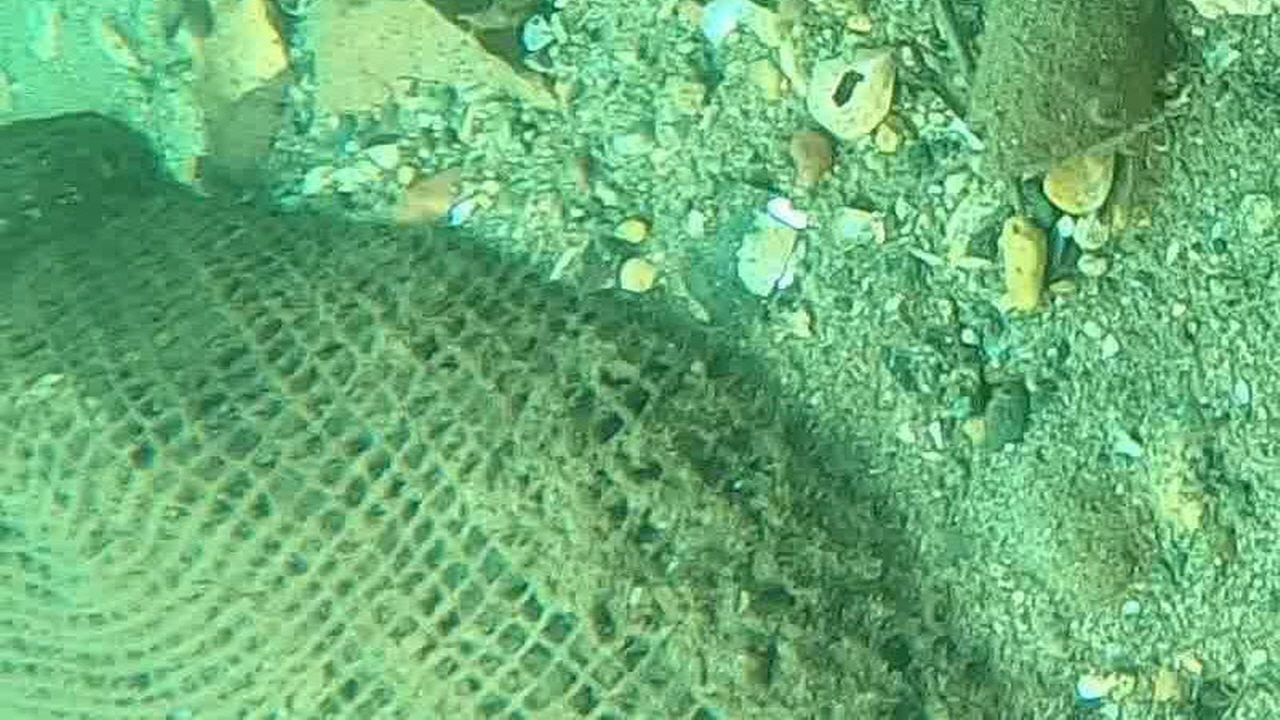fish net: (0, 110, 910, 720)
